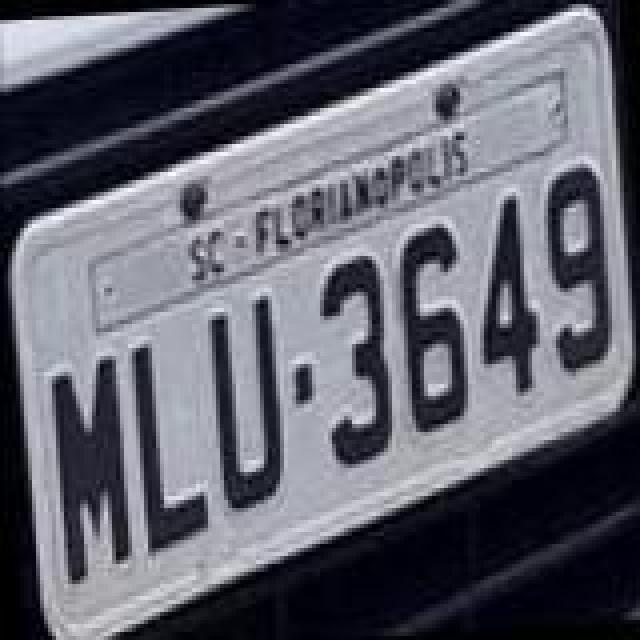3: (312, 248, 396, 472)
4: (468, 190, 544, 402)
6: (394, 220, 474, 436)
9: (538, 164, 618, 380)
L: (128, 336, 212, 560)
M: (46, 354, 134, 590)
U: (202, 290, 290, 518)
